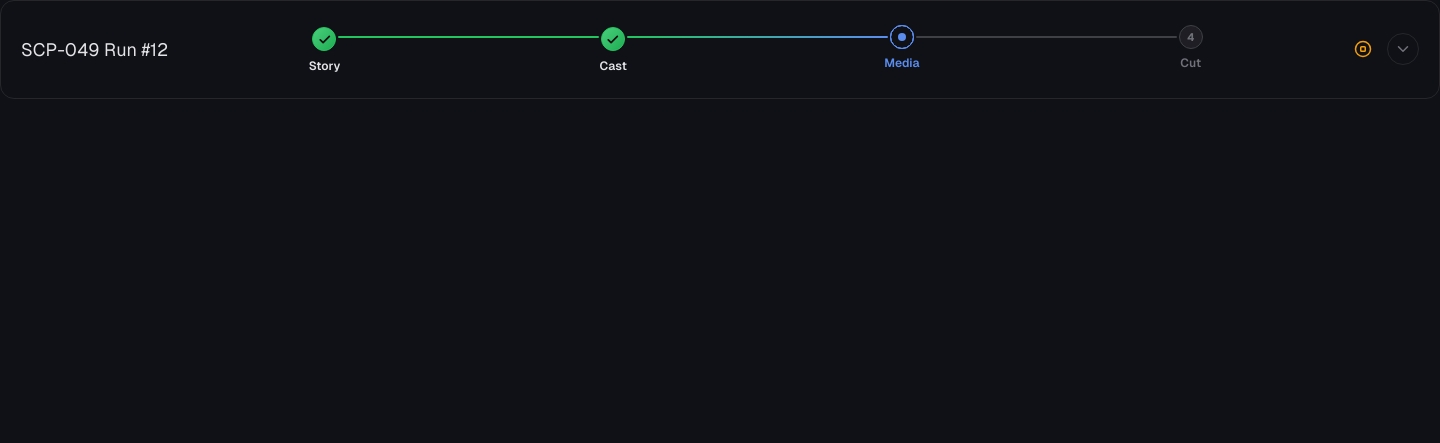
ProductionAppHeader › toggles stage_stepper_expanded in the UI store and switches stepper variant
Click the button named "expand pipeline view" at (1403, 49), box top-left (1387, 33), bottom-right (1419, 65)
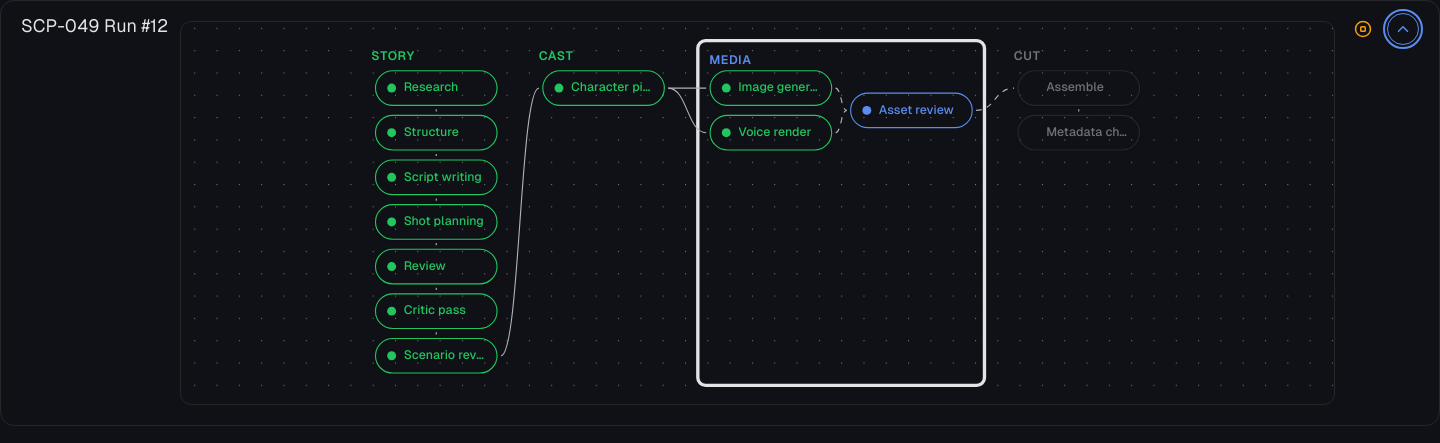
Result: the picture named "pipeline dag" is shown
